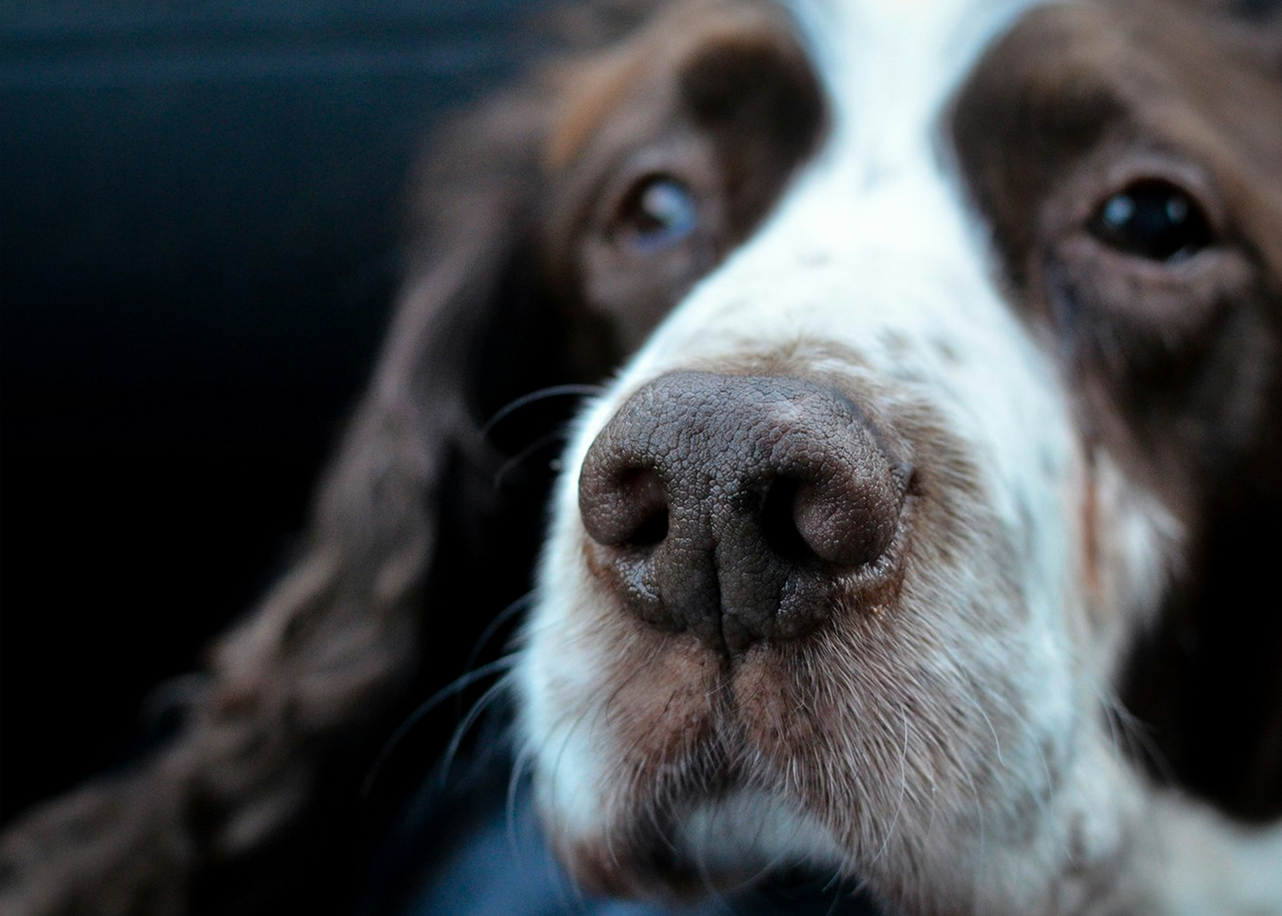dog-nose-detector: (579, 374, 904, 630)
